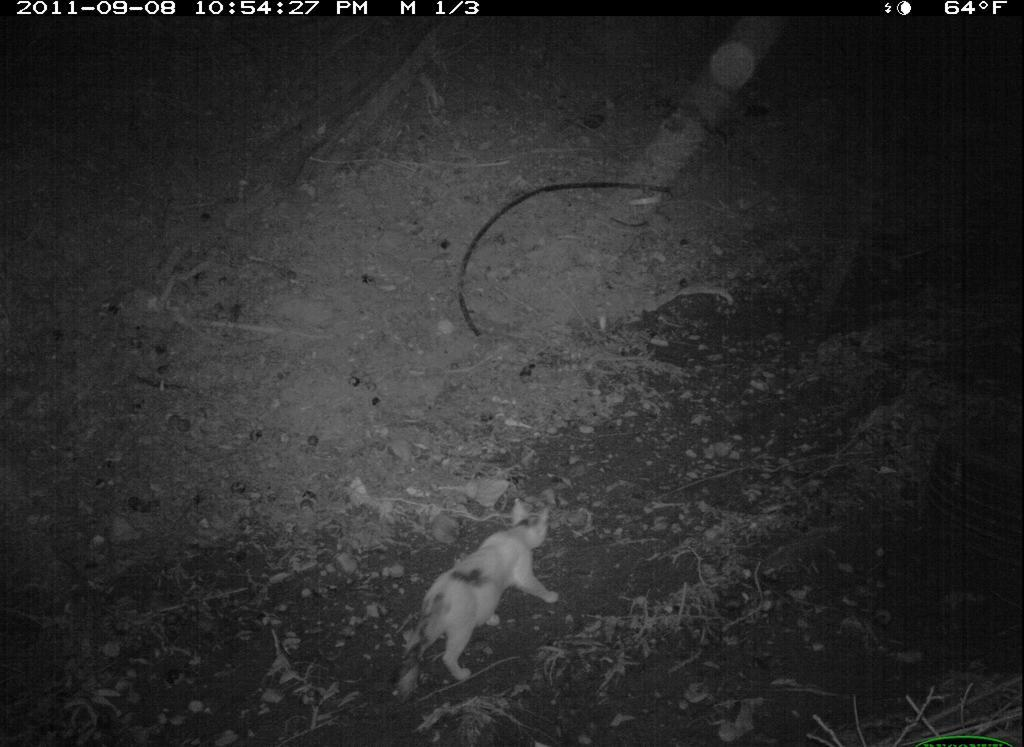cat: (399, 496, 571, 689)
